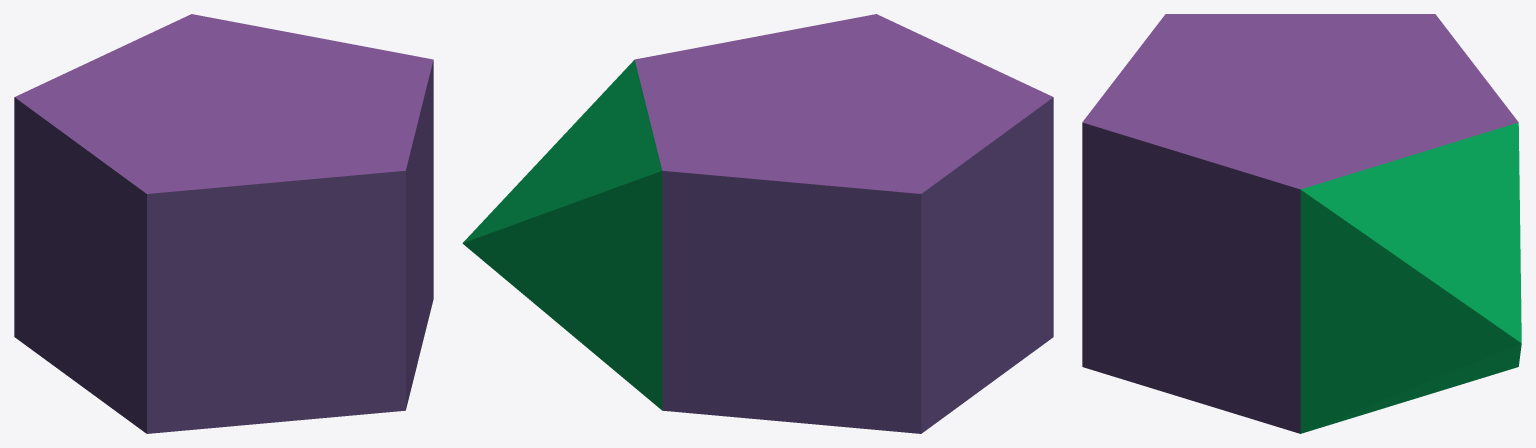
The model's file is J52.PrismaPentagonalAumentado.gltf.
3 views of the same model, side by side, from view 1: azimuth 30°, elevation 25°; view 2: azimuth 150°, elevation 25°; view 3: azimuth 270°, elevation 25° (orthographic).
Visible parts, largest first — view 1: J52.PrismaPentagonalAumentado; view 2: J52.PrismaPentagonalAumentado; view 3: J52.PrismaPentagonalAumentado.
Boxes of the visible parts, left/top/right/bottom form: J52.PrismaPentagonalAumentado: left=14, top=14, right=433, bottom=433; J52.PrismaPentagonalAumentado: left=462, top=14, right=1053, bottom=433; J52.PrismaPentagonalAumentado: left=1082, top=14, right=1521, bottom=433.
Size of the model in its own units: 13.02 by 7.17 by 11.68.
